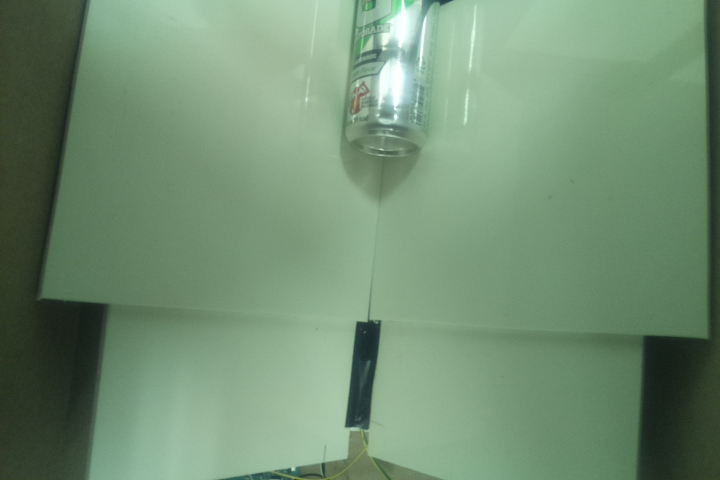can: (343, 1, 442, 158)
